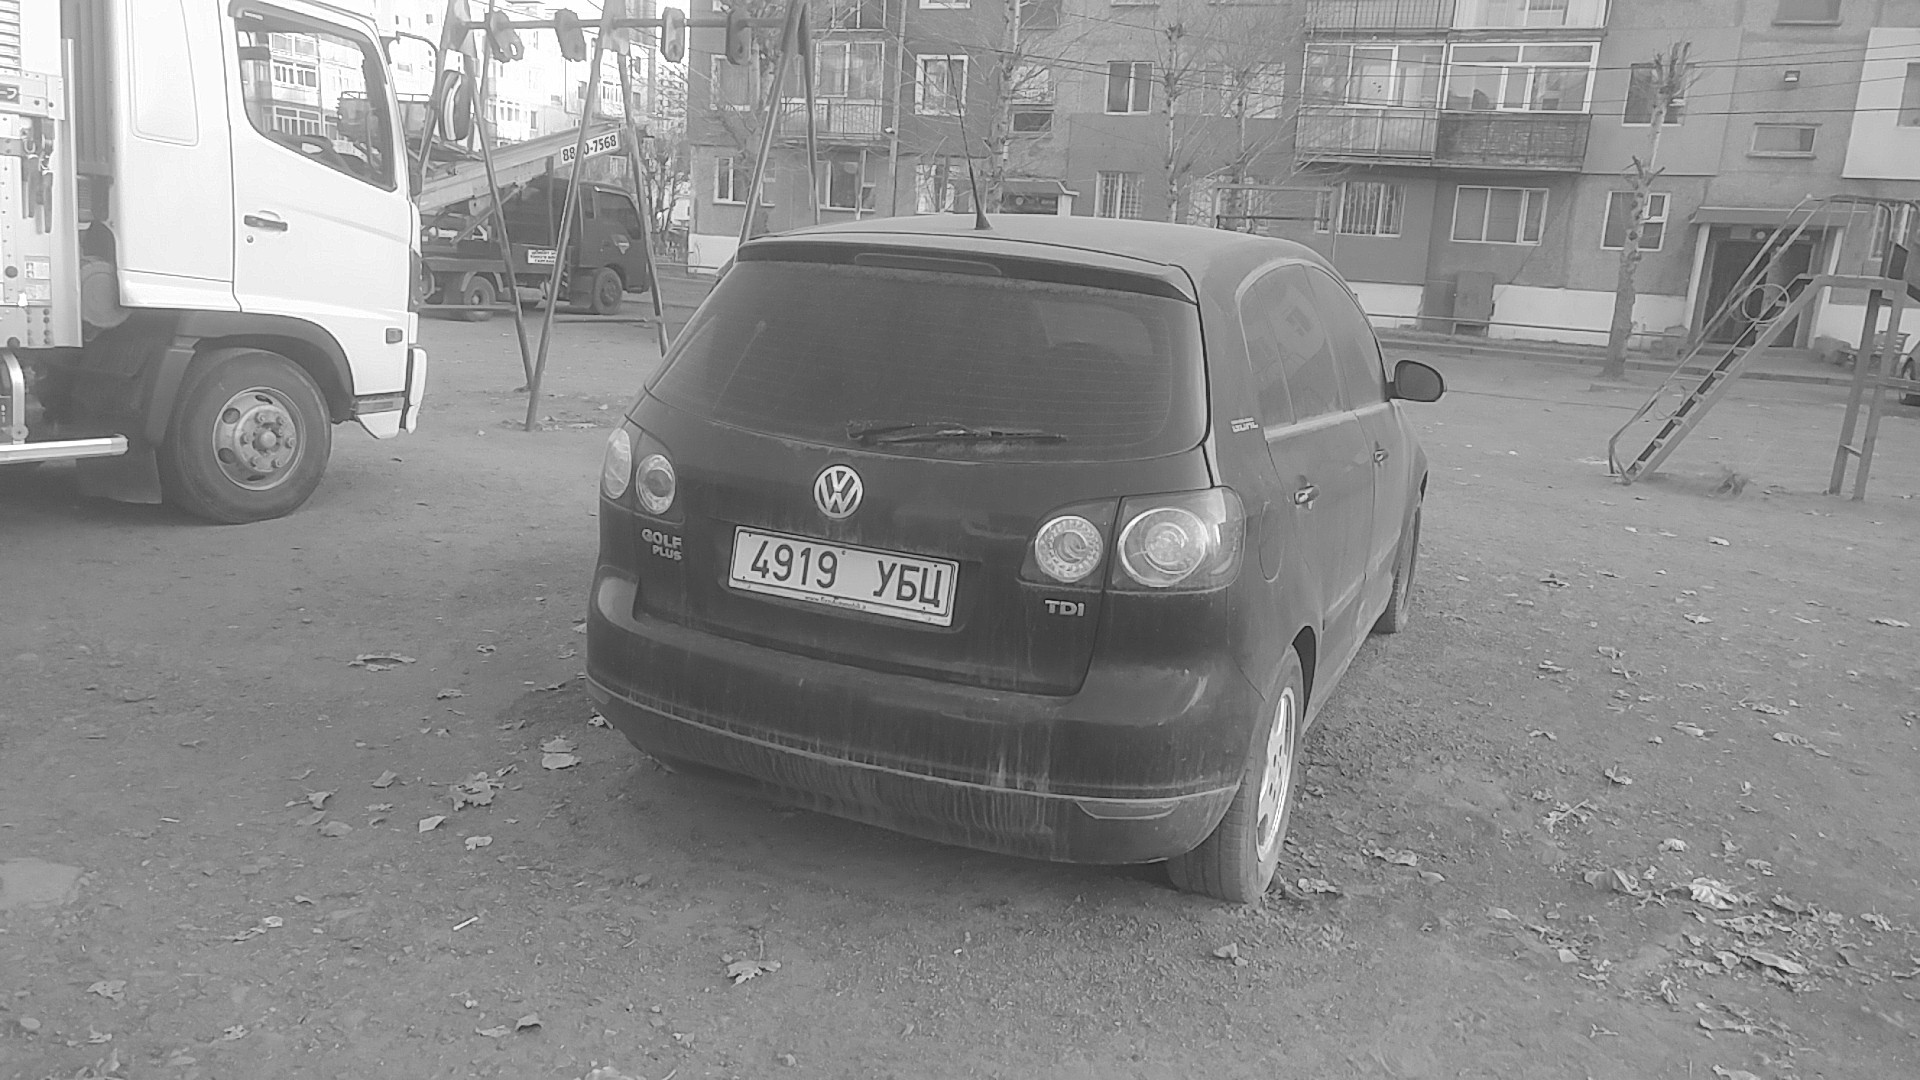1: (798, 547, 813, 586)
4: (751, 540, 771, 578)
9: (773, 544, 794, 582), (816, 551, 838, 588)
b: (897, 563, 920, 601)
plate: (725, 523, 960, 631)
ts: (919, 568, 944, 607)
u: (871, 559, 897, 598)
